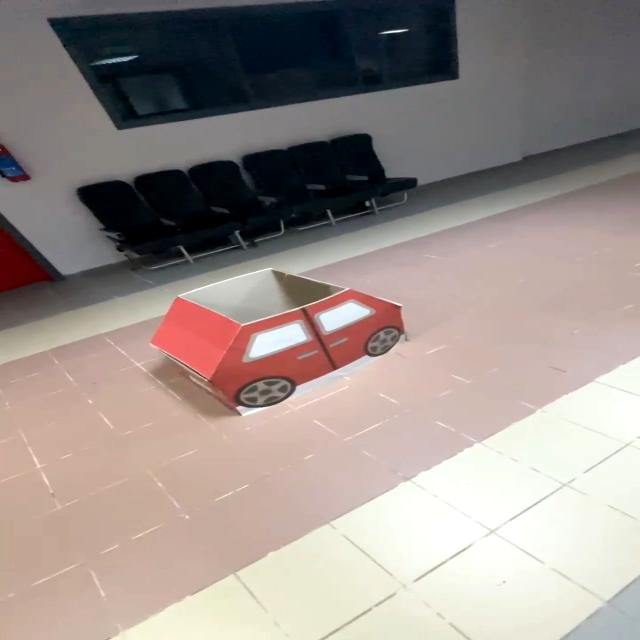red_car: (107, 260, 456, 436)
